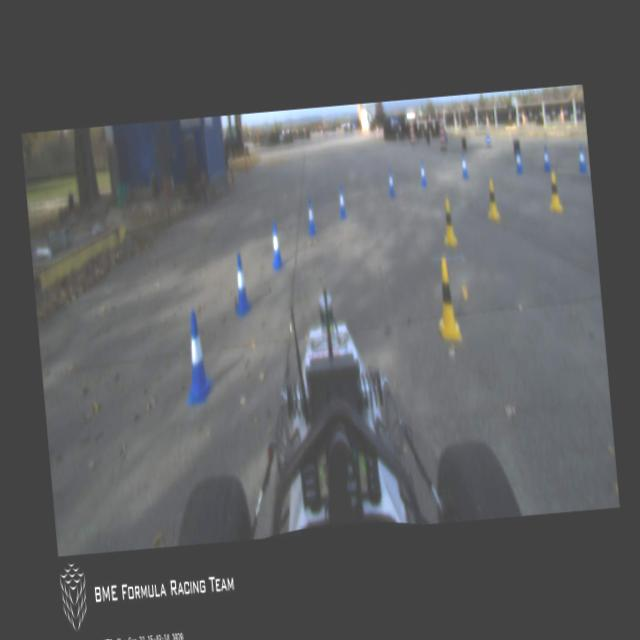blue_cone: (178, 309, 214, 405), (230, 253, 250, 317), (268, 222, 282, 270), (305, 197, 316, 236), (336, 183, 346, 219), (540, 144, 550, 172), (514, 147, 523, 175), (387, 170, 396, 197), (418, 160, 426, 187), (578, 146, 586, 173), (460, 154, 468, 178)
yellow_cone: (433, 256, 461, 344), (440, 196, 458, 249), (546, 169, 562, 214), (485, 178, 500, 223)
